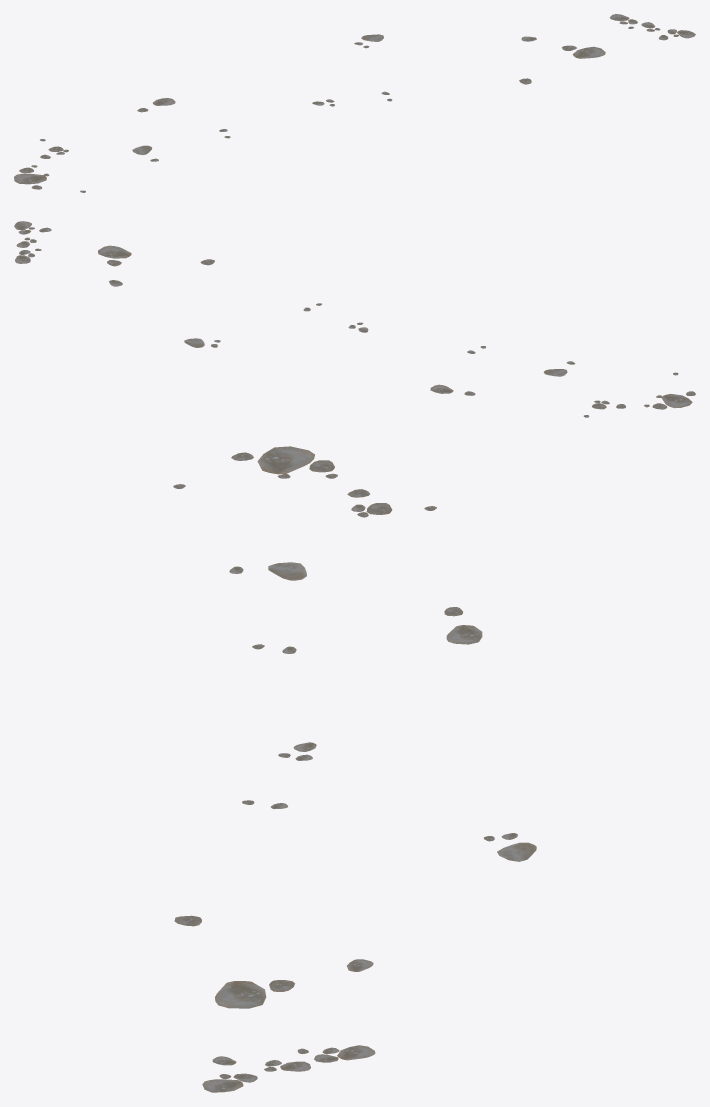
The model's file is pref_sm_beach_sandstone04_lv3.fbx.
3 views of the same model, one above another, from view 1: azimuth 30°, elevation 25°; view 2: azimuth 150°, elevation 25°; view 3: azimuth 270°, elevation 25° (orthographic). The views are drawn at different scales.
Visible parts, largest first — view 1: pref_sm_beach_sandstone04_lv3; view 2: pref_sm_beach_sandstone04_lv3; view 3: pref_sm_beach_sandstone04_lv3.
Boxes of the visible parts, left/top/right/bottom form: pref_sm_beach_sandstone04_lv3: left=14, top=14, right=695, bottom=192; pref_sm_beach_sandstone04_lv3: left=14, top=221, right=695, bottom=417; pref_sm_beach_sandstone04_lv3: left=173, top=446, right=536, bottom=1092.
Size of the model in its own units: 41.24 by 0.085 by 9.81.
